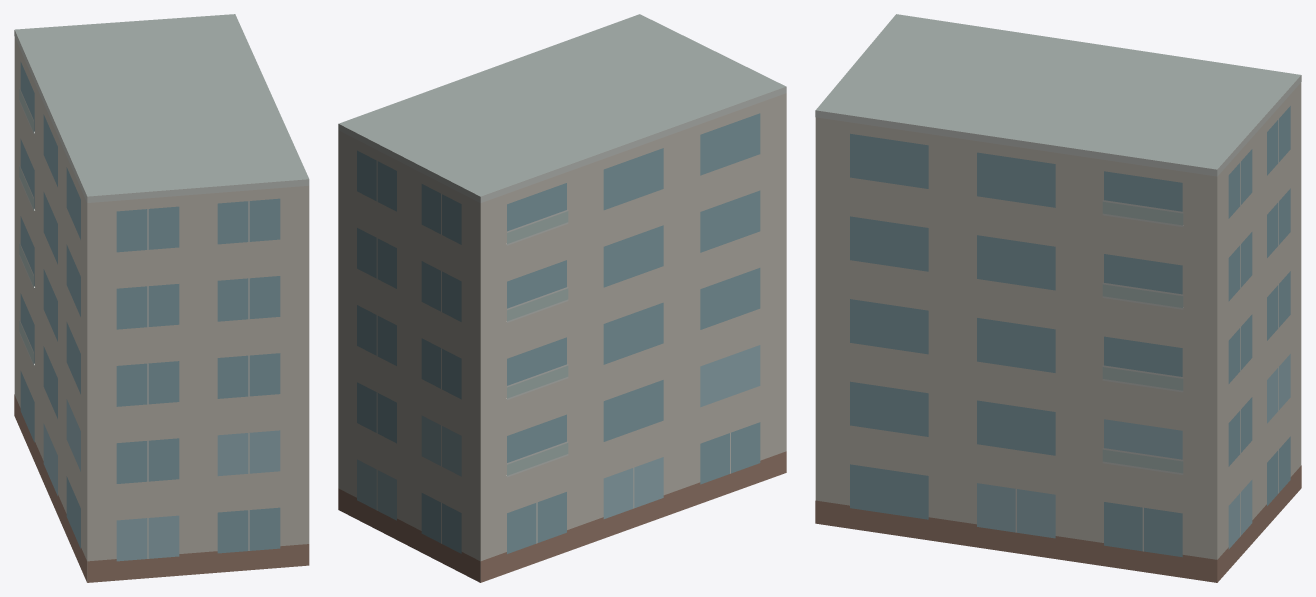
File: survey-upis-32892582.glb
3 renders of one model, left to right at view 1: azimuth 30°, elevation 25°; view 2: azimuth 150°, elevation 25°; view 3: azimuth 270°, elevation 25°, orthographic. The views are drawn at different scales.
Parts seen in each view (by area): view 1: survey-upis-32892582.tmp; view 2: survey-upis-32892582.tmp; view 3: survey-upis-32892582.tmp.
Part boxes in pixels (left/top/right/bottom): survey-upis-32892582.tmp: left=14, top=14, right=309, bottom=582; survey-upis-32892582.tmp: left=338, top=14, right=786, bottom=582; survey-upis-32892582.tmp: left=815, top=14, right=1301, bottom=582.
Bounding box in the file's own units: 11.7 × 14.47 × 15.43.
